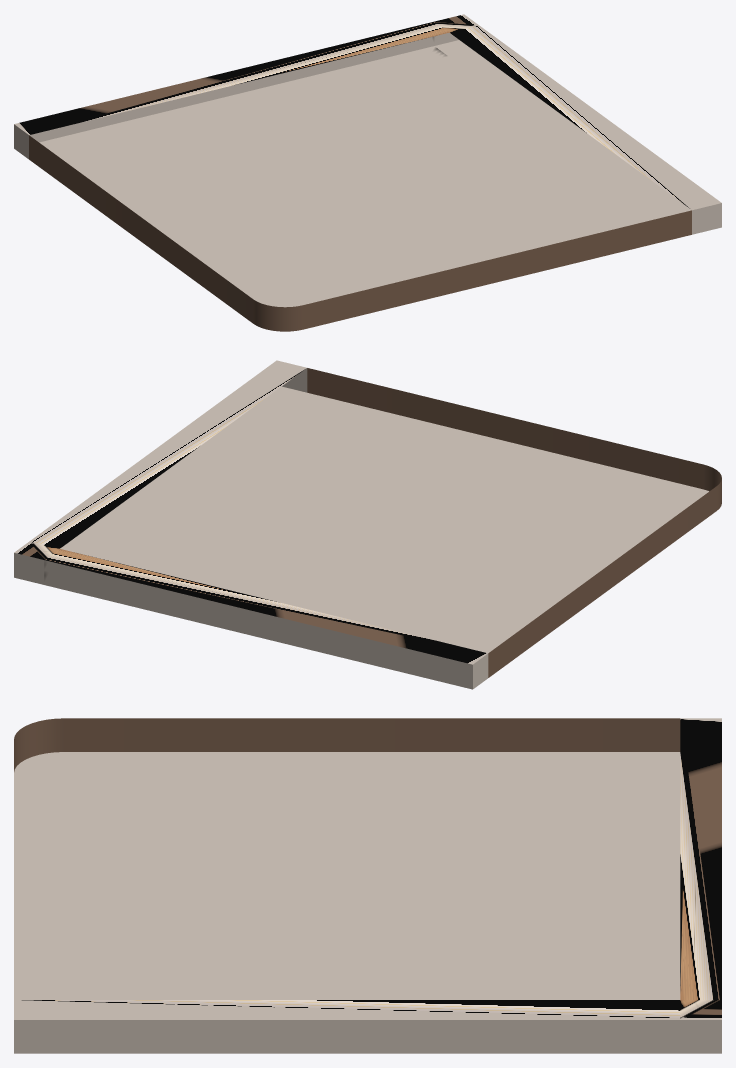
The model's file is floor2.fbx.
3 renders of one model, top to bottom at view 1: azimuth 30°, elevation 25°; view 2: azimuth 150°, elevation 25°; view 3: azimuth 270°, elevation 25°, orthographic. The views are drawn at different scales.
Visible parts, largest first — view 1: Cube.034; view 2: Cube.034; view 3: Cube.034.
Part boxes in pixels (bbox=[...]): Cube.034: bbox=[14, 14, 721, 331]; Cube.034: bbox=[14, 360, 721, 689]; Cube.034: bbox=[14, 718, 721, 1053].
Bounding box in the file's own units: 1070 × 55.59 × 1061.
